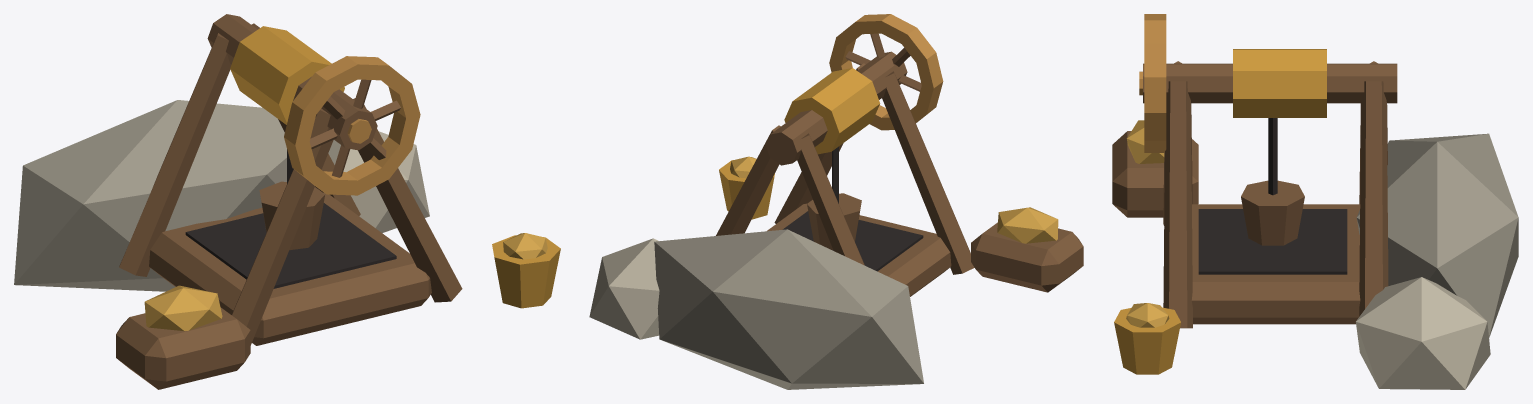
File: ns-mine-winch.glb
3 views of the same model, side by side, from view 1: azimuth 30°, elevation 25°; view 2: azimuth 150°, elevation 25°; view 3: azimuth 270°, elevation 25° (orthographic). The views are drawn at different scales.
Parts seen in each view (by area): view 1: Icosphere; view 2: Icosphere; view 3: Icosphere.
Boxes of the visible parts, left/top/right/bottom form: Icosphere: left=14, top=14, right=560, bottom=389; Icosphere: left=589, top=14, right=1083, bottom=389; Icosphere: left=1112, top=14, right=1518, bottom=389.
Bounding box in the file's own units: 0.6022 × 0.4509 × 0.5187.
